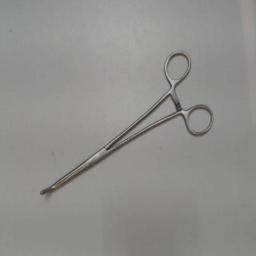Lahey Forceps: (33, 40, 215, 204)
